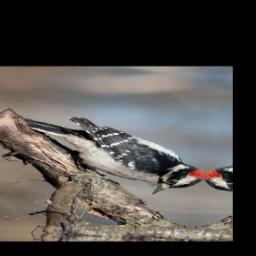Woodpecker: (0, 114, 218, 200)
